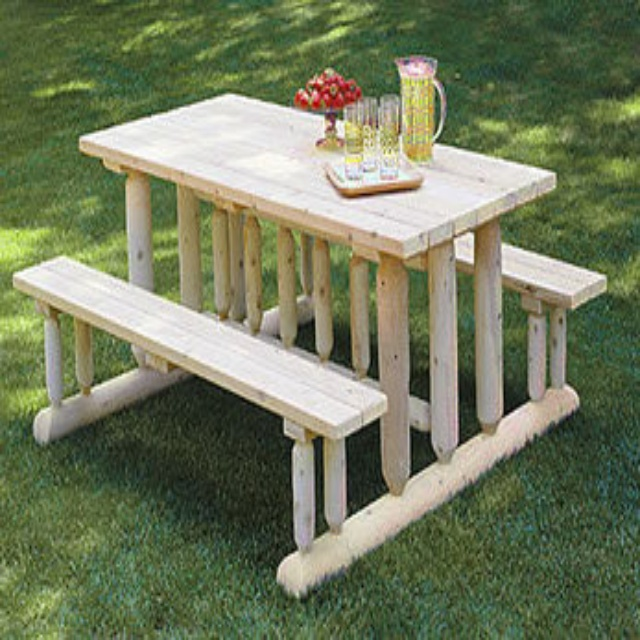obstacle: (6, 76, 623, 616)
